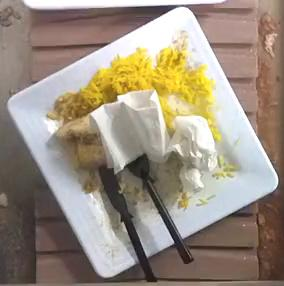rice: (46, 33, 219, 139)
unknown: (56, 115, 106, 169)
